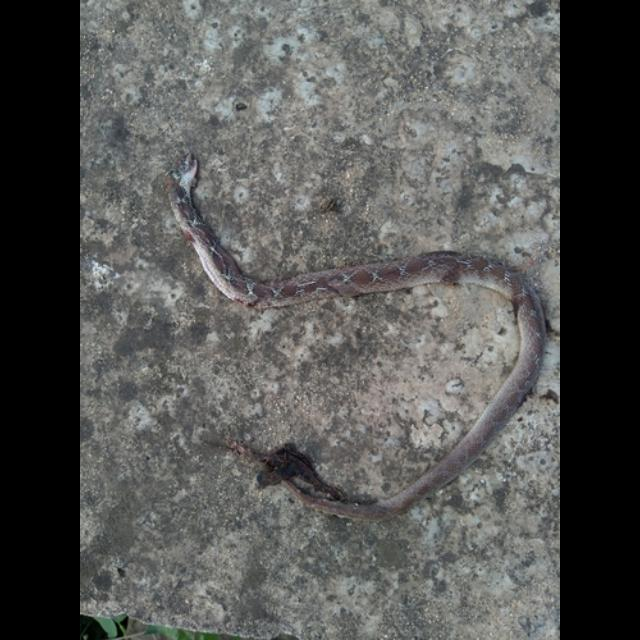snake: (160, 130, 552, 538)
